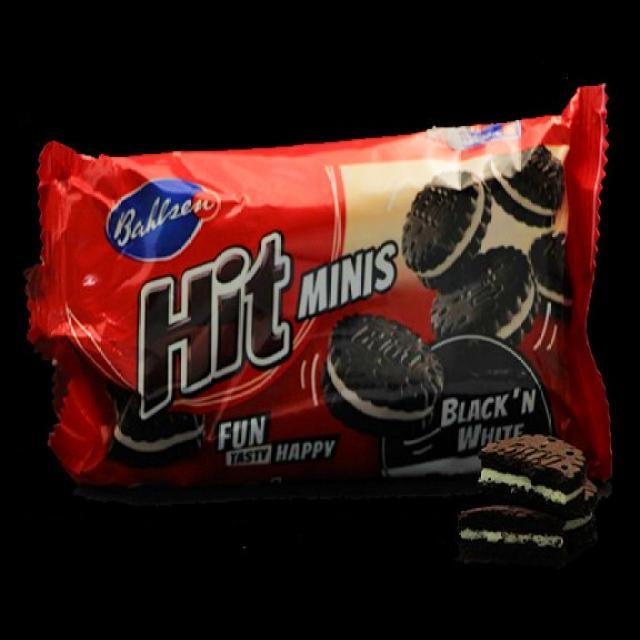Cookie: (31, 113, 615, 475), (476, 442, 587, 506)
